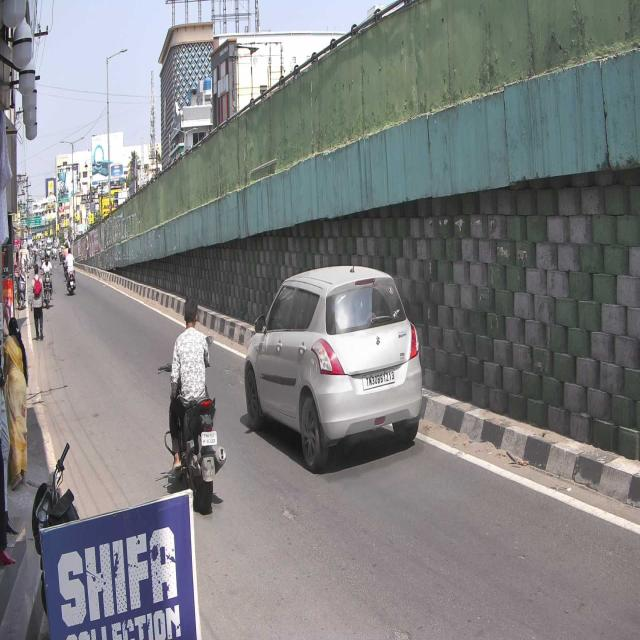single_rider: (158, 295, 226, 511)
